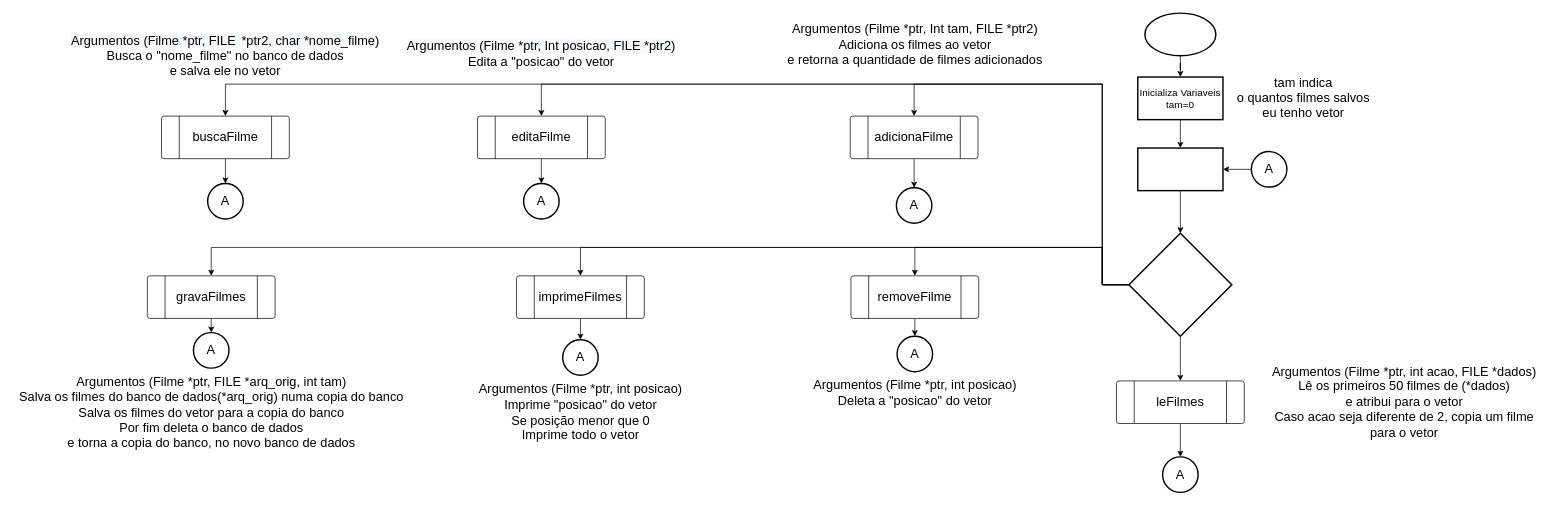
Image size: 1554x505. Some labels were removed from this diagram. Here are the shapes that lost their labels. From the top down, the centre of each, then its label:
At [1180,34]: "Forum Filmes (MAIN)".
At [1180,169]: "Apresentação do Menu".
At [1180,284]: "Analisa Escolha do Usuário".
